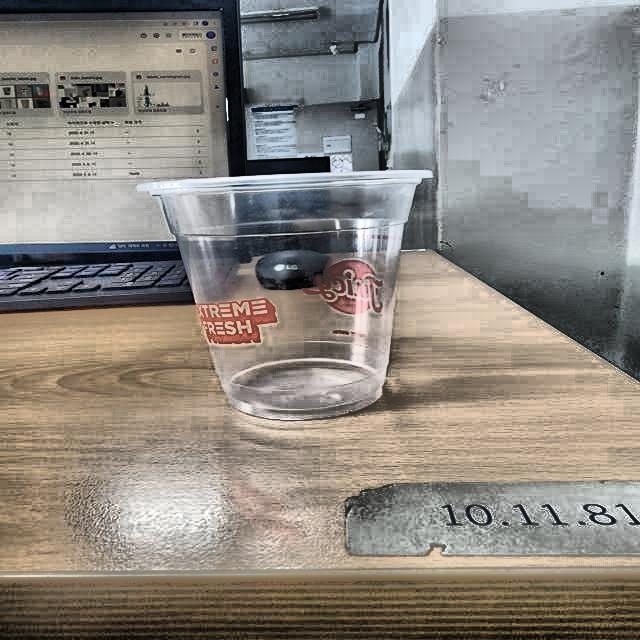plastic cup: (142, 167, 436, 419)
